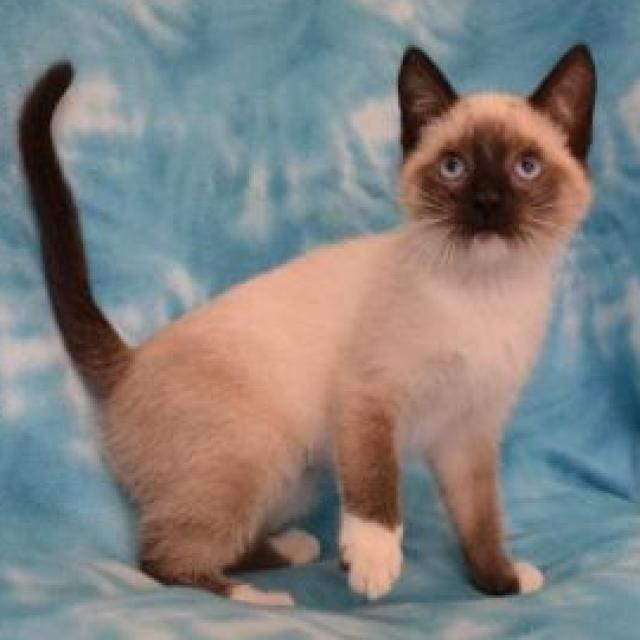Siamese: (13, 38, 602, 609)
